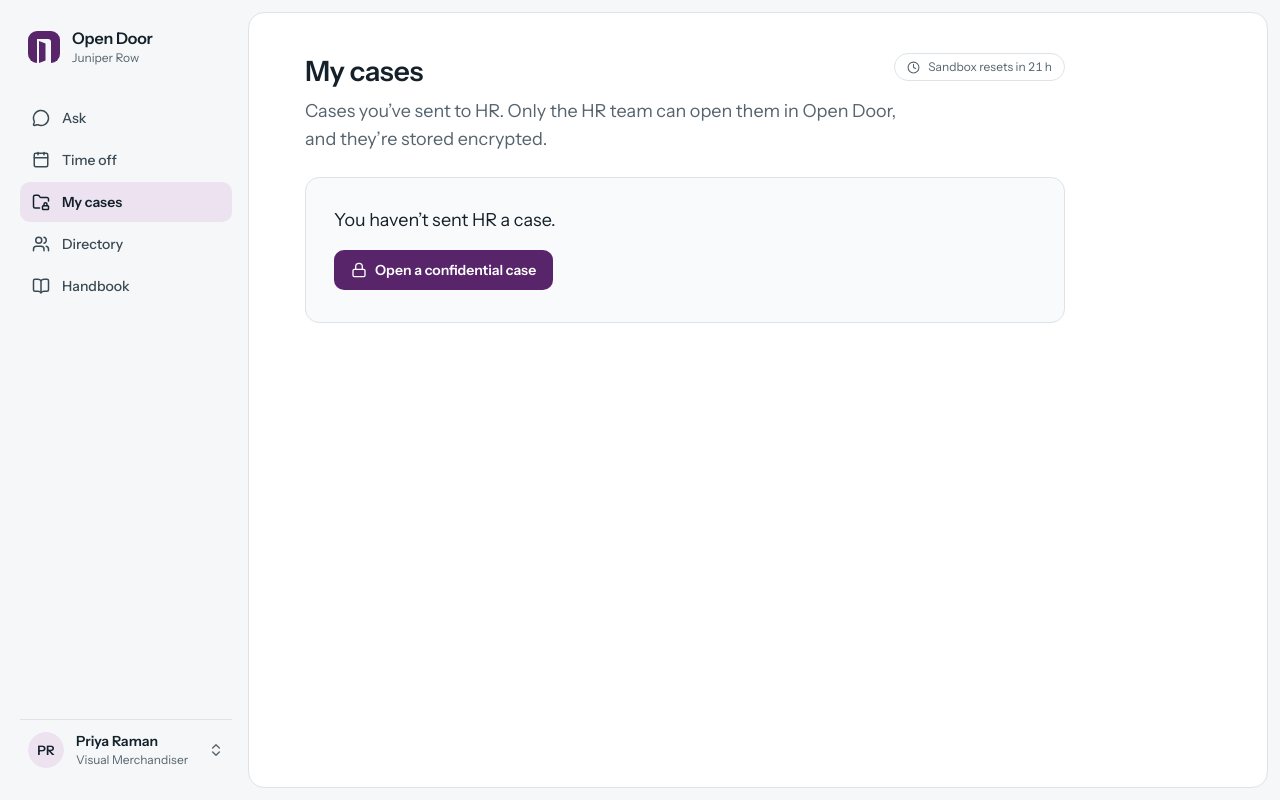
Scenario: My cases: the page › refuses a card number in the words as the form does, and sends nothing
Click the button "Open a confidential case" at {"x": 444, "y": 270}, box left=334, top=250, right=553, bottom=290
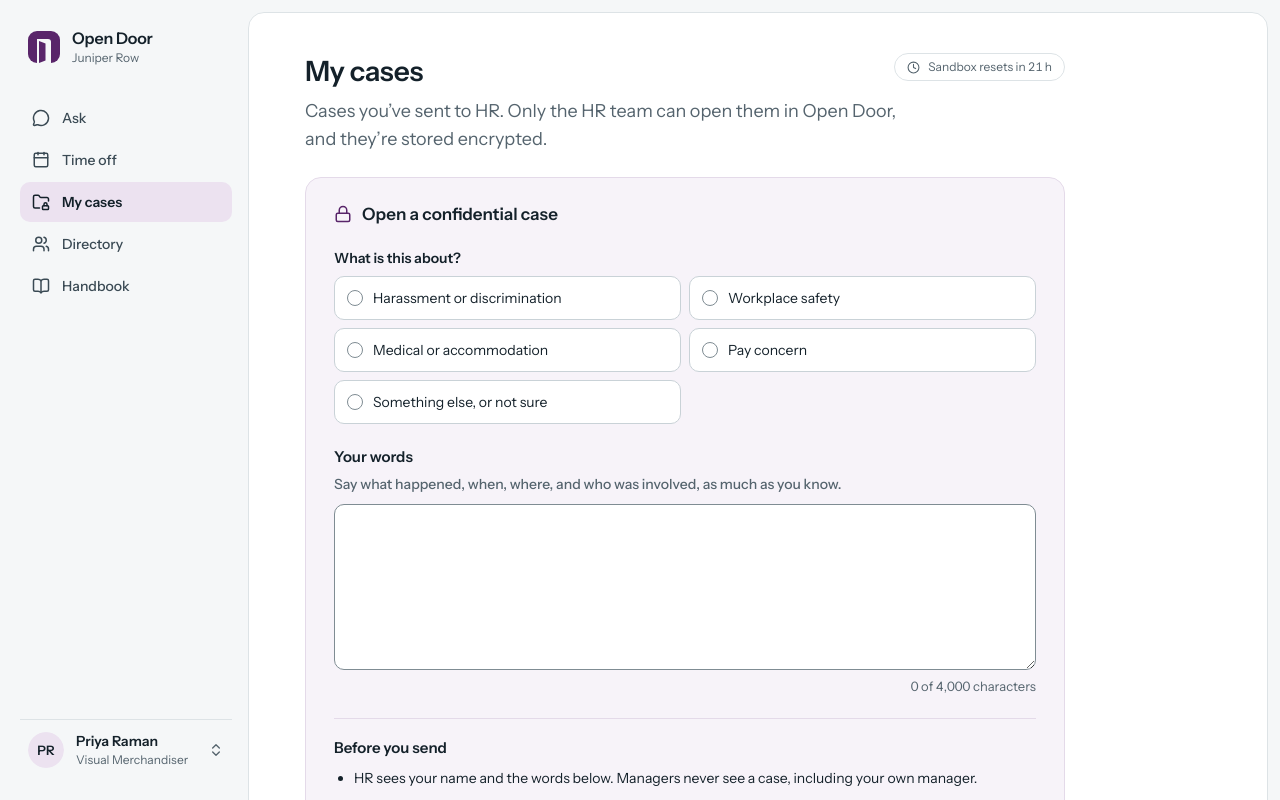
Click the radio button labelled "Pay concern" at {"x": 768, "y": 350}, box left=689, top=328, right=1036, bottom=372
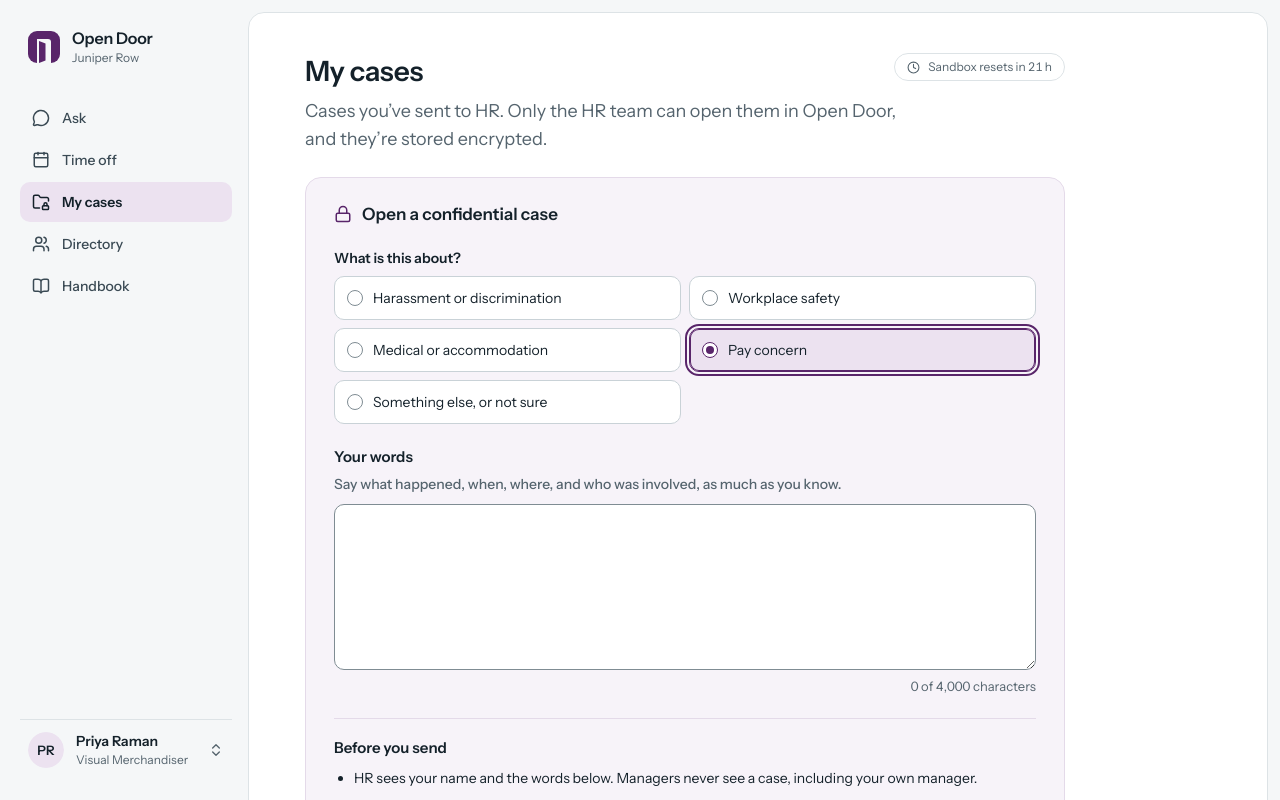
Type "My employee number is 123-45-6789." into the text box labelled "Your words" at {"x": 685, "y": 587}, box left=334, top=504, right=1036, bottom=670
(page scrolled)
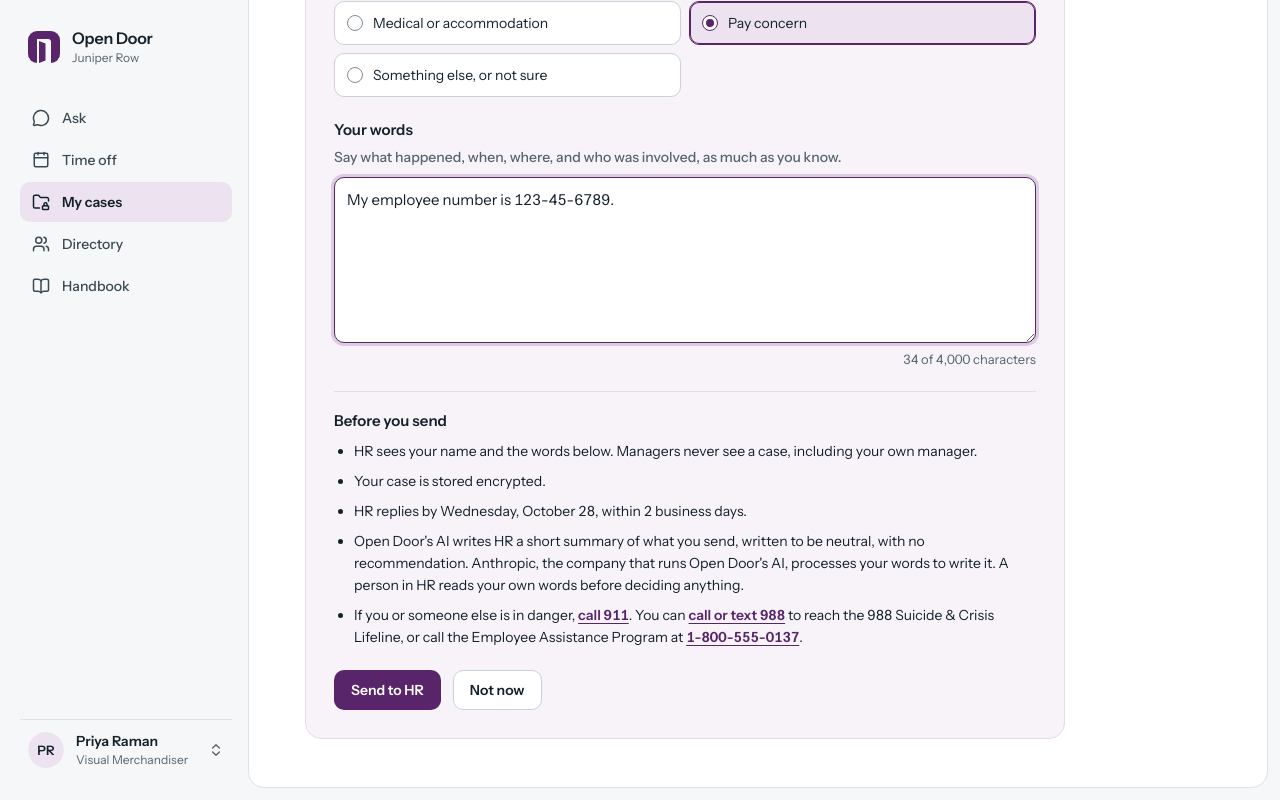
Click the button "Send to HR" at {"x": 387, "y": 690}, box left=334, top=670, right=441, bottom=710
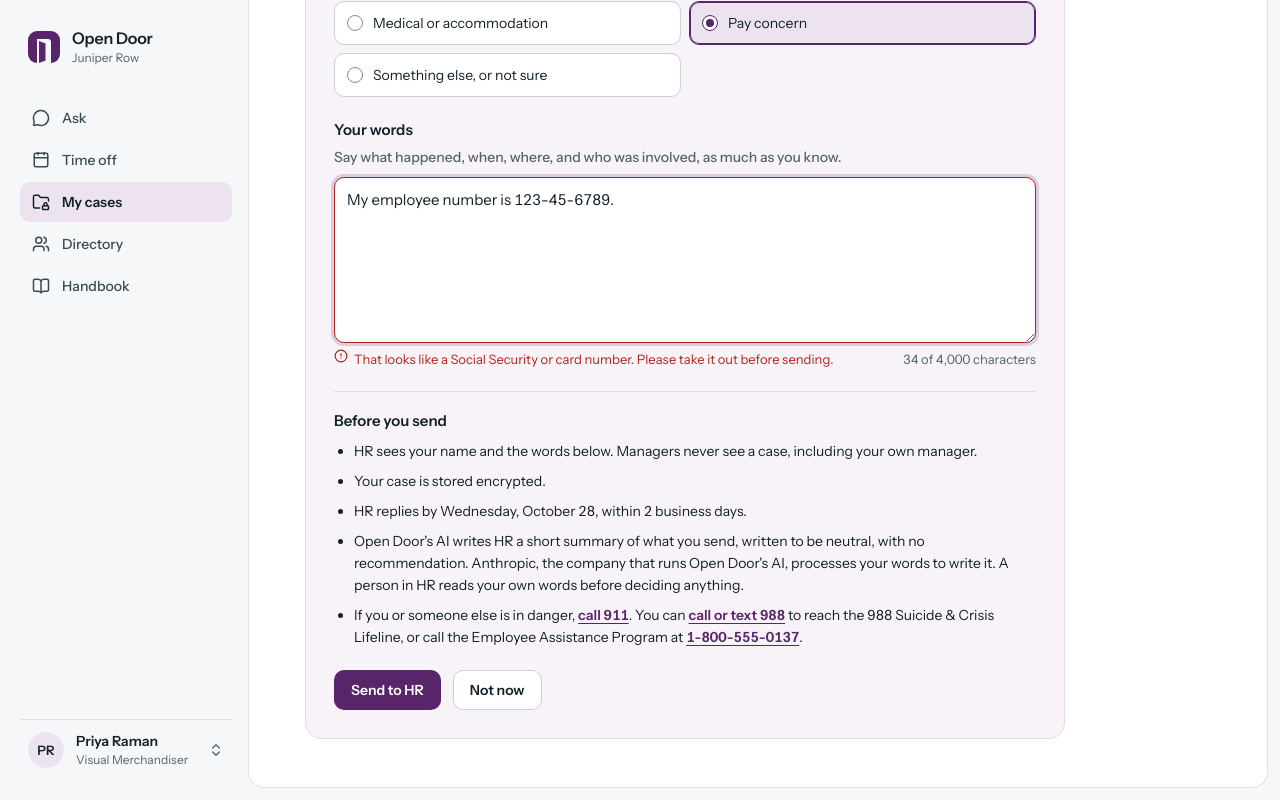
Expected: the text "Social Security or card number" is shown, left=354, top=351, right=834, bottom=367
